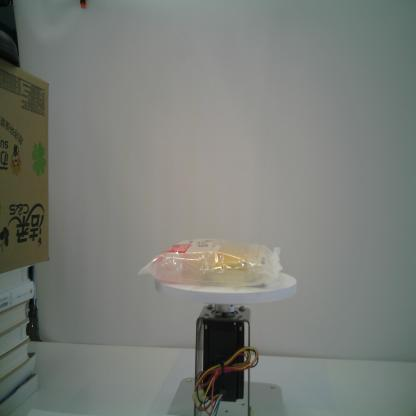Dessert: (136, 236, 284, 288)
